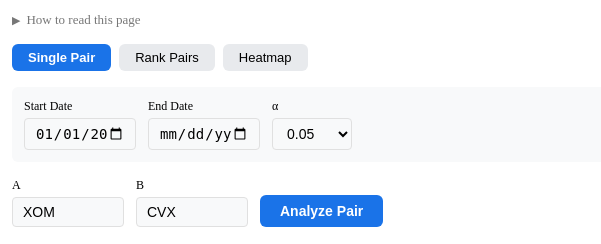
Scenario: Pairs Page › switches to Heatmap section on click
What coordinates should you click on to do the following:
click the button "Heatmap"
I would click on:
 (265, 58)
Its box is top-left (223, 44), bottom-right (308, 71).
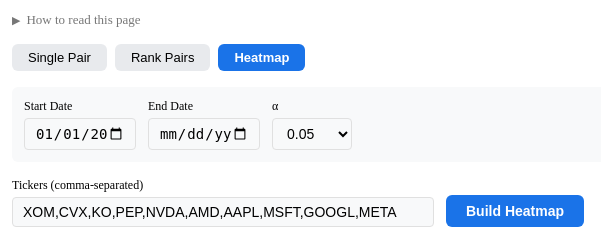
Expected: the text "Tickers (comma-separated)" is shown, top-left (12, 178), bottom-right (434, 227)
Expected: the button "Build Heatmap" is shown, top-left (446, 195), bottom-right (584, 227)
